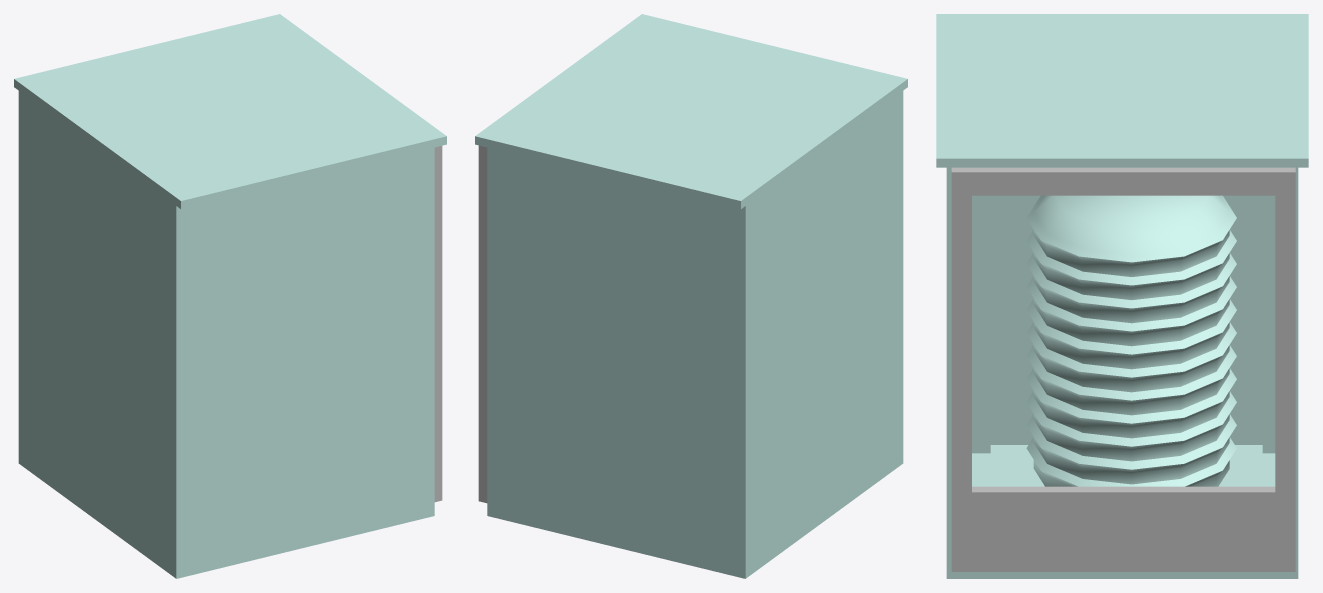
File: SM_Capacitor2.fbx
3 renders of one model, left to right at view 1: azimuth 30°, elevation 25°; view 2: azimuth 150°, elevation 25°; view 3: azimuth 270°, elevation 25°, orthographic. The views are drawn at different scales.
Parts seen in each view (by area): view 1: Capicator2, door_001; view 2: Capicator2, door_001; view 3: Capicator2, door_001.
Part boxes in pixels (x1,y1,x2,y2): Capicator2: (14, 14, 446, 578); door_001: (434, 146, 442, 502); Capicator2: (475, 14, 907, 578); door_001: (478, 145, 487, 503); Capicator2: (936, 14, 1308, 578); door_001: (951, 167, 1295, 571).
Bounding box in the file's own units: 33.95 × 46.1 × 36.61.
